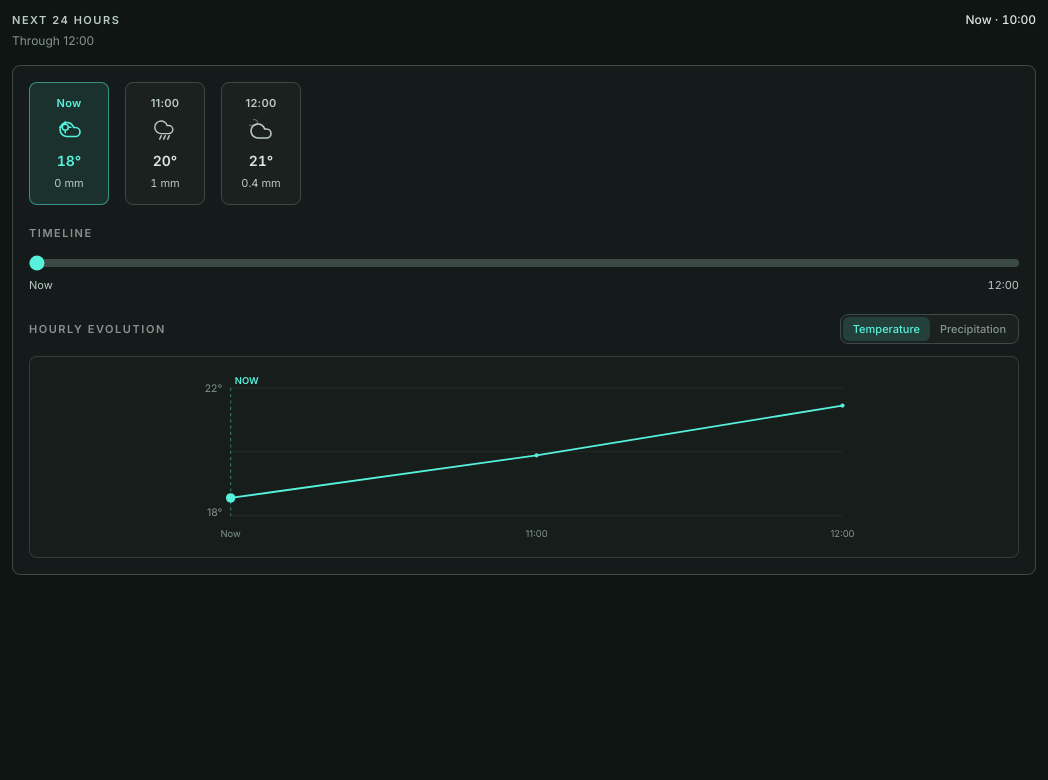
Test: HourlyExploration › returns to current conditions when Now is selected again
The width and height of the screenshot is (1048, 780).
Set the slider named "Hourly weather timeline" to "1" at (524, 263), box [29, 259, 1019, 267]
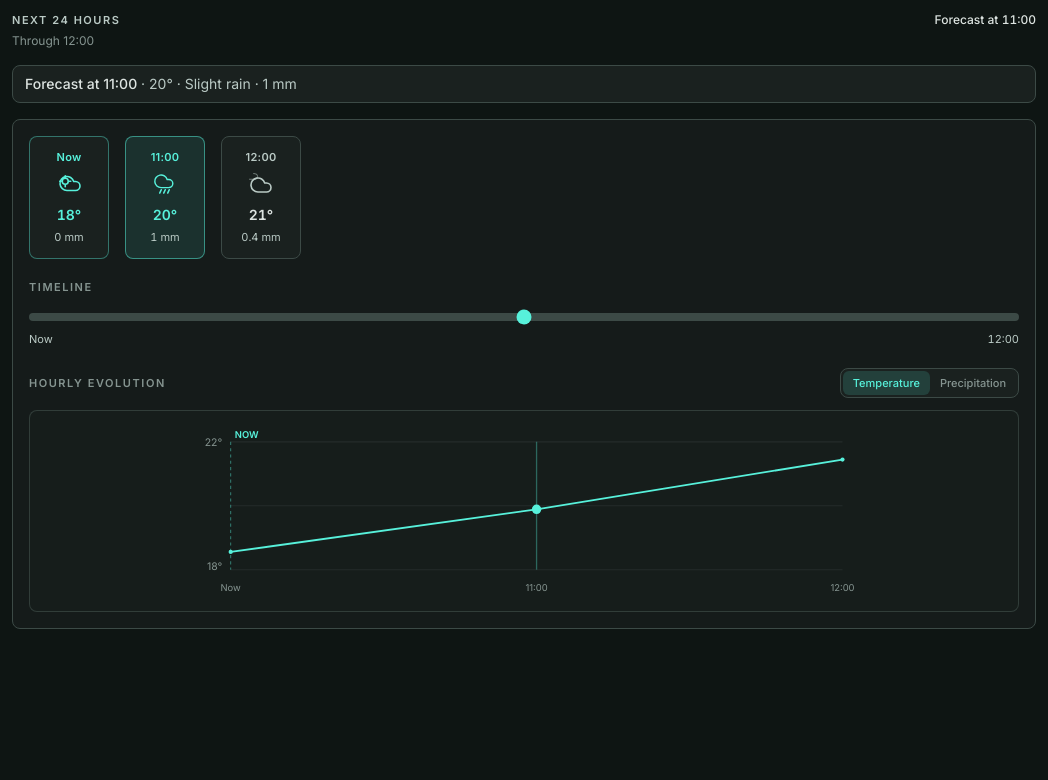
Expected: the message shows "Forecast at", [25, 74, 137, 92]
Set the slider named "Hourly weather timeline" to "0" at (37, 317), box [29, 313, 1019, 321]
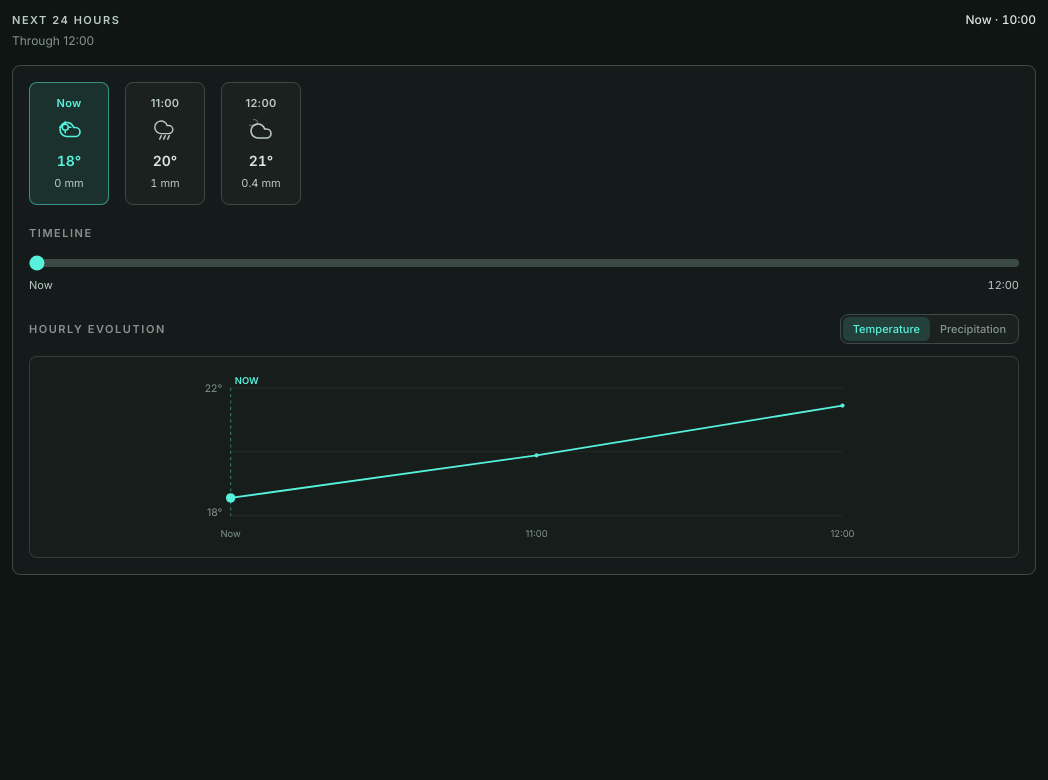
Expected: the text "Forecast at" is gone
